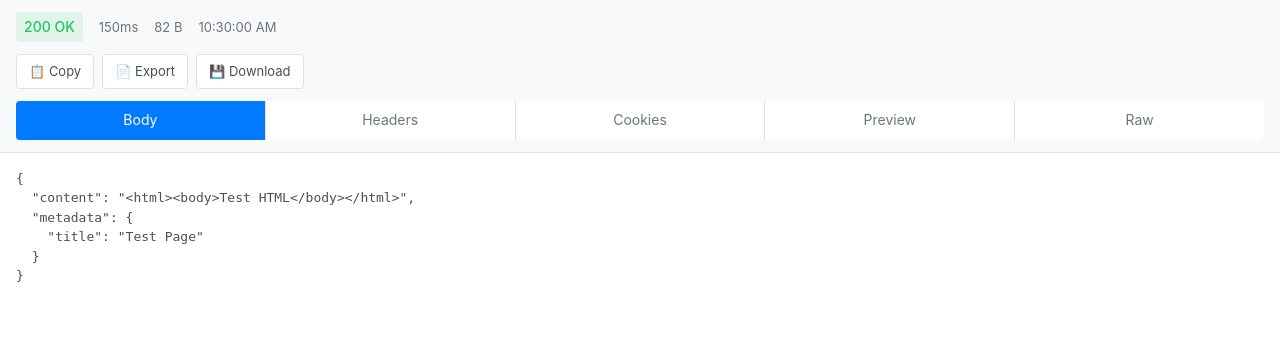
Test: ResponseView › should allow selecting different properties for preview
Click the button "Preview".
click(890, 120)  # box top-left (765, 101), bottom-right (1014, 140)
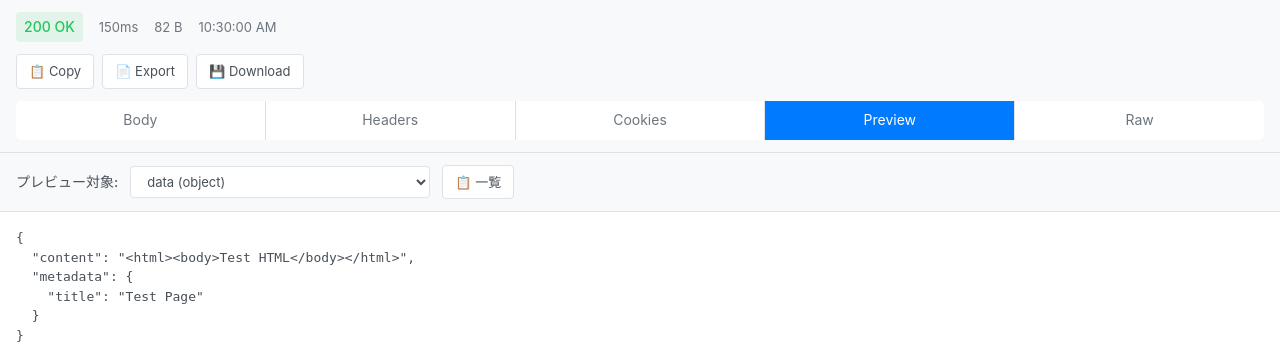
Now the dropdown is shown, box top-left (130, 166), bottom-right (430, 198)
